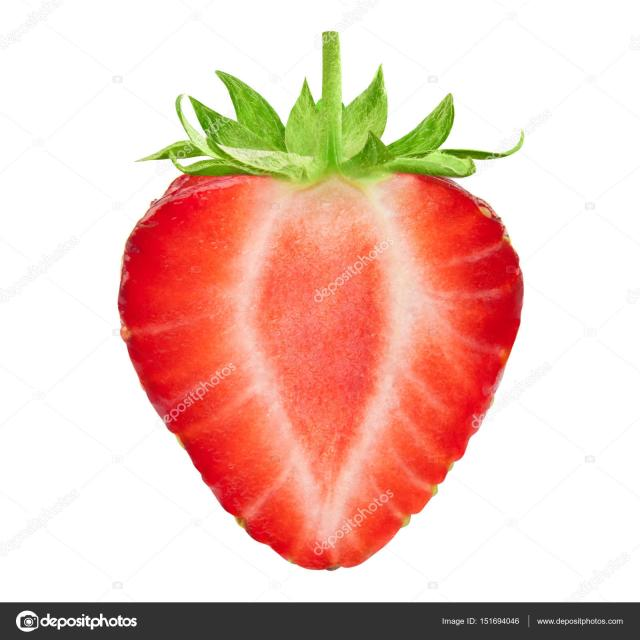strawberry: (126, 33, 515, 584)
